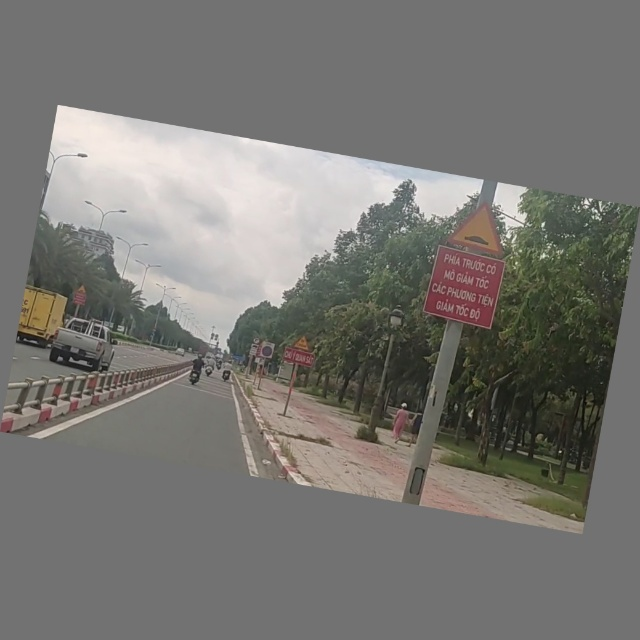P.123b: (251, 338, 261, 346)
P.130: (259, 341, 275, 361)
W.221b: (443, 194, 516, 258)
W.245a: (290, 333, 314, 354)
